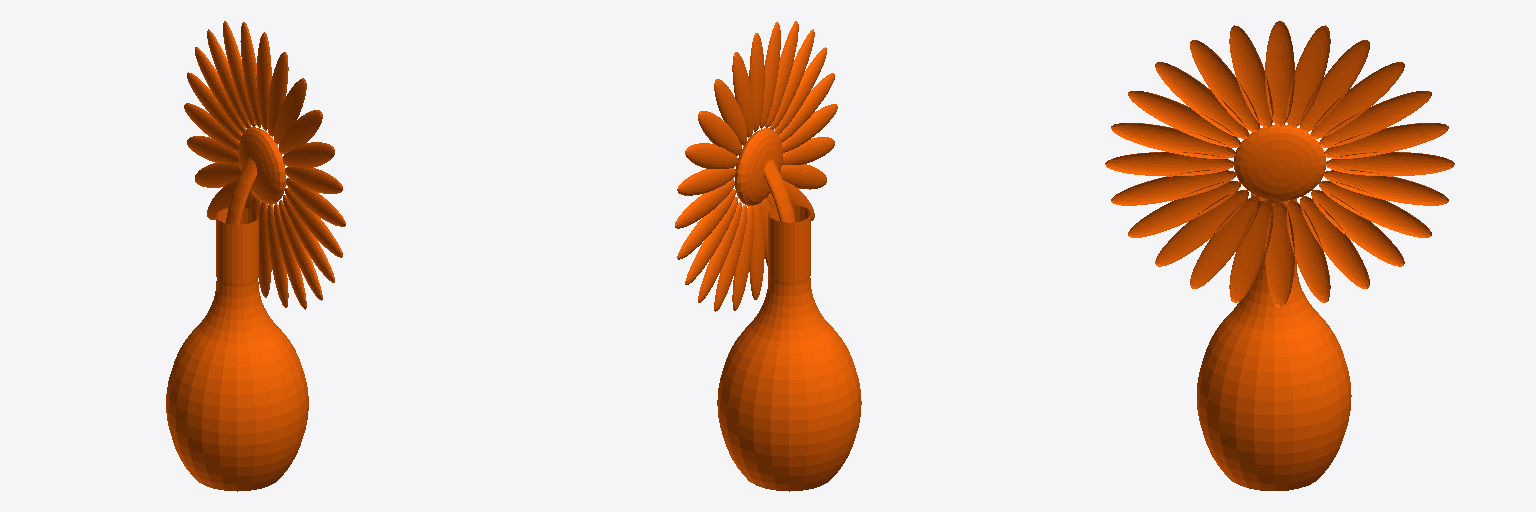
robot.urdf — PottedPlant_76ffe67d67948975464e3094da7d844a:
<?xml version="1.0" ?>
<robot name="PottedPlant_76ffe67d67948975464e3094da7d844a">
   <material name="obj_color">
      <color rgba="1.0 0.423529411765 0.0392156862745 1.0"/>
   </material>
   <link name="top">
      <inertial>
         <origin rpy="0.000329799306282234 0.0009652866637671441 0.001186896042244498" xyz="-0.003854696667539696 -0.0005900378768292628 -0.03133359994758668"/>
         <mass value="0.4579382920680257"/>
         <inertia ixx="0.00118019475936718" ixy="-1.619643546220135e-06" ixz="-7.54726203071625e-05" iyy="0.0009650033243160886" iyz="-1.334467861838602e-05" izz="0.0003367839286106083"/>
      </inertial>
      <visual>
         <origin rpy="0 0 0" xyz="0 0 0"/>
         <geometry>
            <mesh filename="top_watertight_tiny.stl" scale="1 1 1"/>
         </geometry>
         <material name="obj_color"/>
      </visual>
      <collision>
         <origin rpy="0 0 0" xyz="0 0 0"/>
         <geometry>
            <mesh filename="top_watertight_tiny.obj" scale="1 1 1"/>
         </geometry>
      </collision>
   </link>
   <link name="bottom">
      <inertial>
         <origin rpy="1.633333333199431e-08 1.633333333199431e-08 1.633333333362855e-08" xyz="0.3464080000000008 0.3464080000000008 0.3464080000000008"/>
         <mass value="0.0009800000000000017"/>
         <inertia ixx="1.633333333253906e-08" ixy="5.447480642029219e-19" ixz="5.447480642029219e-19" iyy="1.633333333253906e-08" iyz="5.447480642029219e-19" izz="1.633333333253906e-08"/>
      </inertial>
      <visual>
         <origin rpy="0 0 0" xyz="0 0 0"/>
         <geometry>
            <mesh filename="bottom_watertight_tiny.stl" scale="1 1 1"/>
         </geometry>
         <material name="obj_color"/>
      </visual>
   </link>
   <link name="world"/>
   <joint name="world_to_base" type="fixed">
      <origin xyz="0 0 0"/>
      <axis xyz="0 0 0"/>
      <parent link="world"/>
      <child link="bottom"/>
   </joint>
   <joint name="rotation" type="revolute">
      <origin xyz="0 0 0"/>
      <axis xyz="0 0 -1"/>
      <parent link="bottom"/>
      <child link="top"/>
      <dynamics damping="1.0" friction="1.0"/>
      <limit effort="0.1" velocity="0.1" lower="0" upper="0.001"/>
   </joint>
</robot>

--- Render facts (derived) ---
The picture shows the robot from 3 angles, left to right: view 1: azimuth 30°, elevation 25°; view 2: azimuth 150°, elevation 25°; view 3: azimuth 270°, elevation 25°; orthographic projection.
Model PottedPlant_76ffe67d67948975464e3094da7d844a with 3 links and 2 joints (1 revolute, 1 fixed), rooted at world, posed every joint at zero.
Visible links, largest first — view 1: top; view 2: top; view 3: top.
Link boxes in pixels (bbox=[...]): top: bbox=[166, 21, 345, 491]; top: bbox=[675, 21, 861, 491]; top: bbox=[1105, 21, 1454, 490].
Bounding box of the posed robot: 0.0598 × 0.1352 × 0.1985 m (x, y, z).
Meshes: 2 distinct files referenced, 1 mesh visuals loaded (1 binary STL); not drawn: 1 (reference not matched to a file when rendering).
